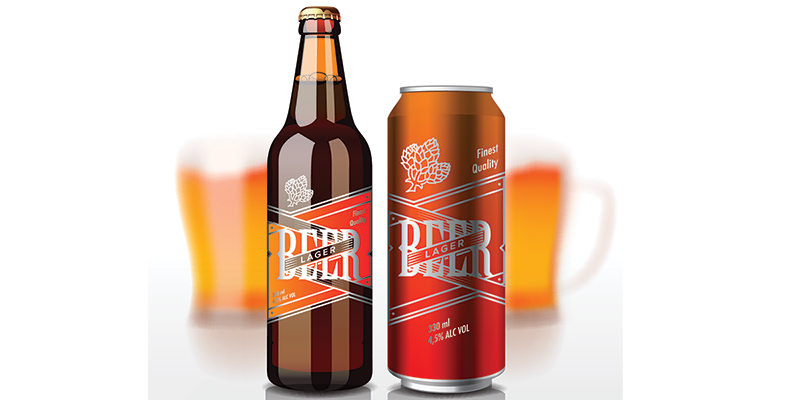beer can: (390, 84, 508, 400)
